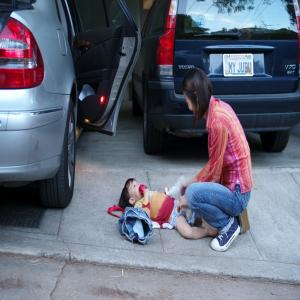Vehicle-registration-plate: (224, 54, 255, 76)
